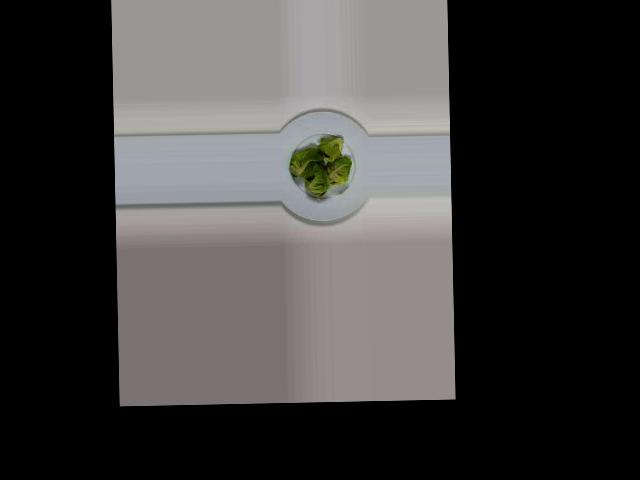lettuce: (262, 98, 356, 207)
